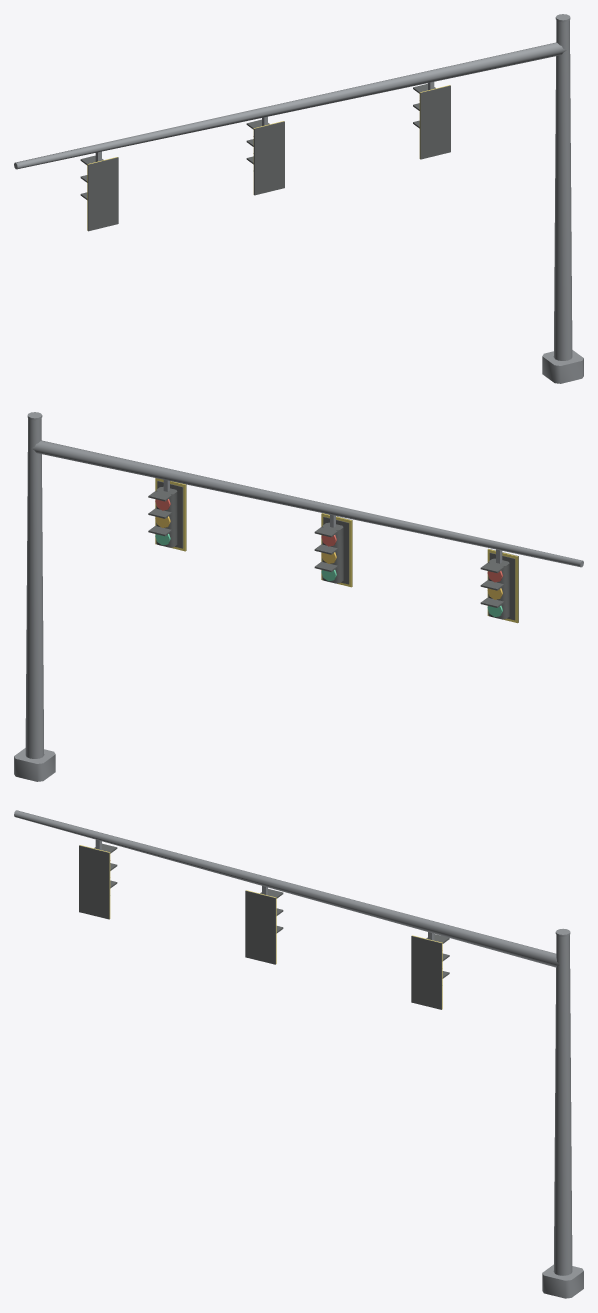
The model's file is signal-3.glb.
3 renders of one model, top to bottom at view 1: azimuth 30°, elevation 25°; view 2: azimuth 150°, elevation 25°; view 3: azimuth 330°, elevation 25°, orthographic.
Visible parts, largest first — view 1: signal-3; view 2: signal-3; view 3: signal-3.
Part boxes in pixels (x1,y1,x2,y2): signal-3: (14,14,583,383); signal-3: (14,412,583,781); signal-3: (14,810,583,1298).
Bounding box in the file's own units: 1.64 × 1 × 0.0936.
